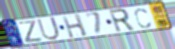7: (84, 12, 103, 36)
C: (134, 7, 153, 29)
H: (61, 13, 90, 39)
R: (108, 8, 137, 34)
U: (36, 16, 62, 42)
Z: (18, 19, 44, 43)
